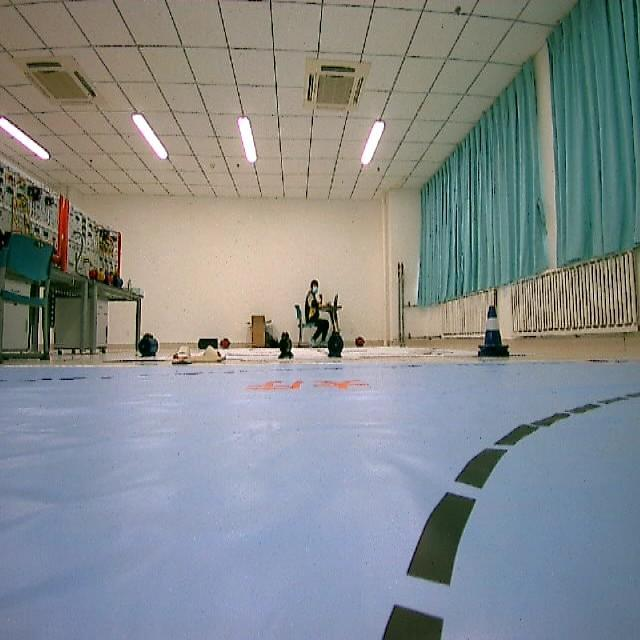obstacle: (467, 300, 513, 362)
